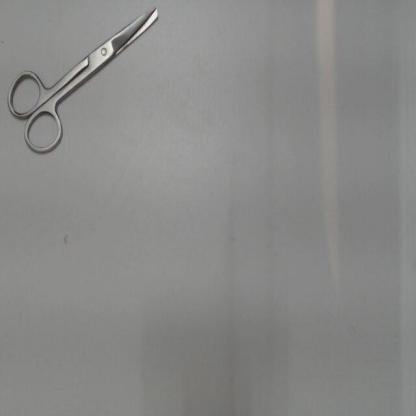Dressing Scissors: (1, 3, 170, 166)
